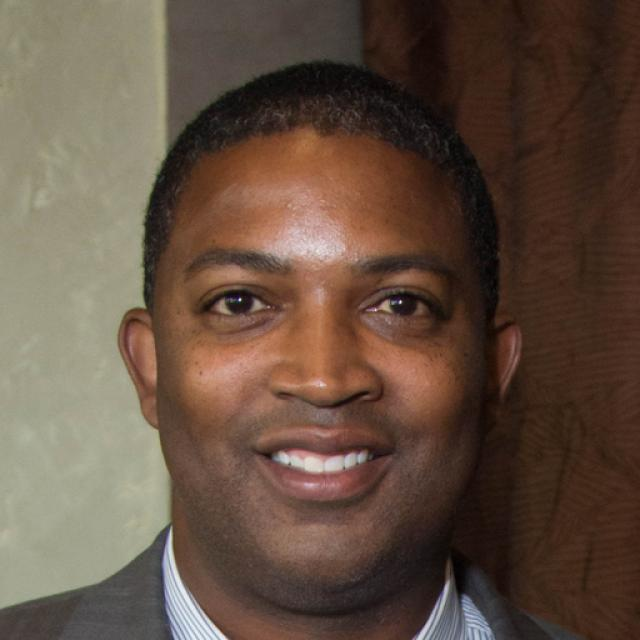Acne: (338, 241, 357, 257), (276, 199, 297, 213)
Dark Circle: (356, 312, 437, 349), (203, 311, 292, 344)
